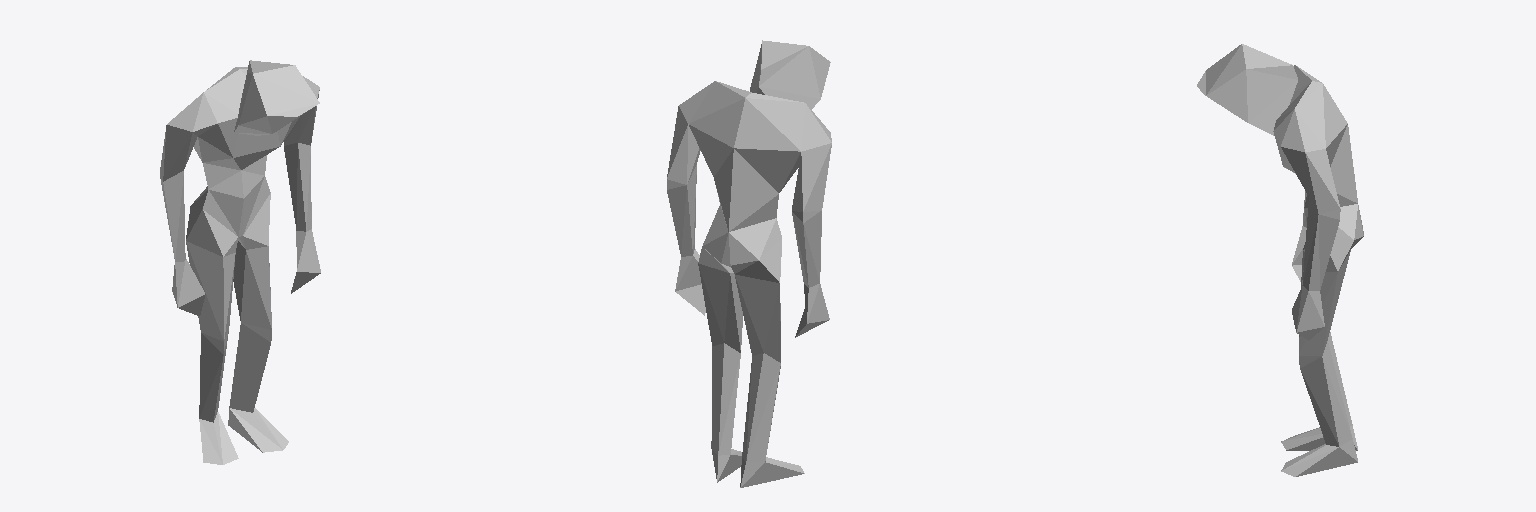
File: redead.obj
3 renders of one model, left to right at view 1: azimuth 30°, elevation 25°; view 2: azimuth 150°, elevation 25°; view 3: azimuth 270°, elevation 25°, orthographic.
Bounding box in the file's own units: 69.66 × 175 × 65.76.